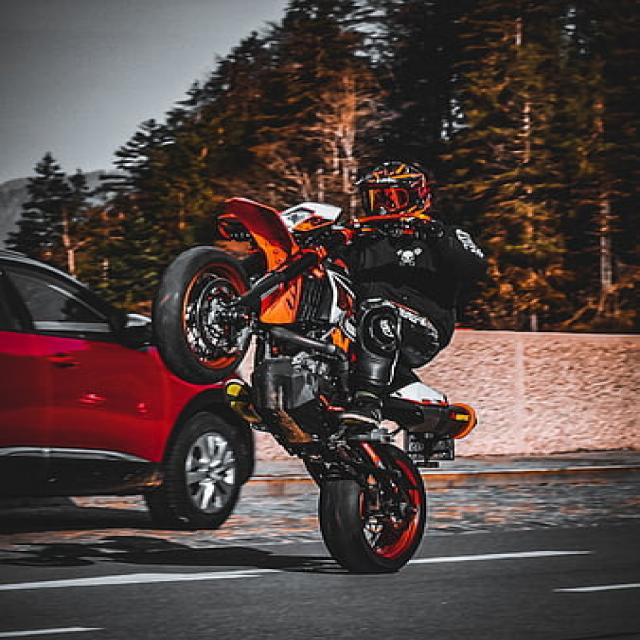Wheeling: (158, 156, 551, 627)
